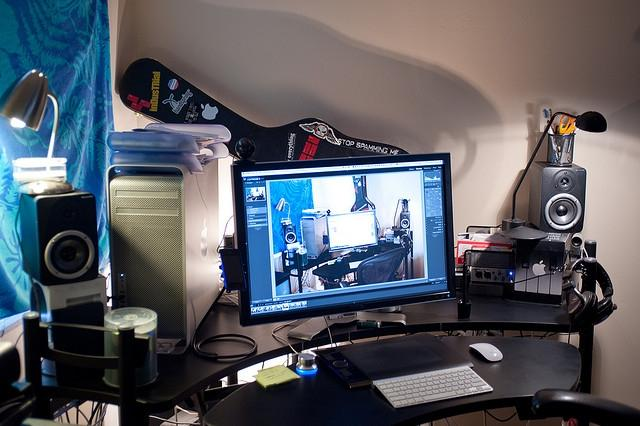apple: (202, 103, 218, 120)
